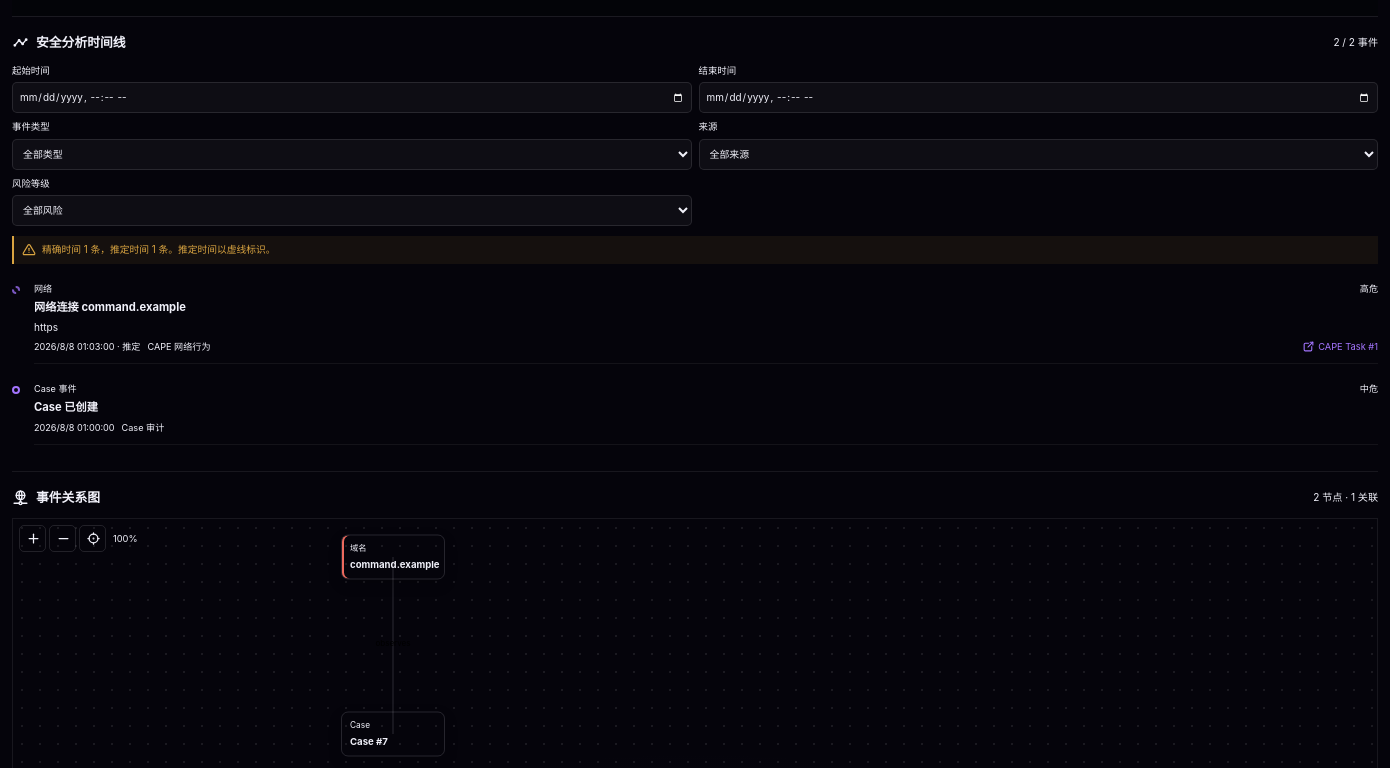
it: CaseAnalysisPanel › filters timeline events and explains estimated time
Check: the text "网络连接 command.example" is shown, box top-left (34, 300), bottom-right (186, 314)
Check: the text "精确时间 1 条，推定时间 1 条。推定时间以虚线标识。" is shown, box top-left (42, 243), bottom-right (275, 257)
Select "Case" in the dropdown labelled "来源" at (1038, 154), box top-left (698, 138), bottom-right (1378, 170)
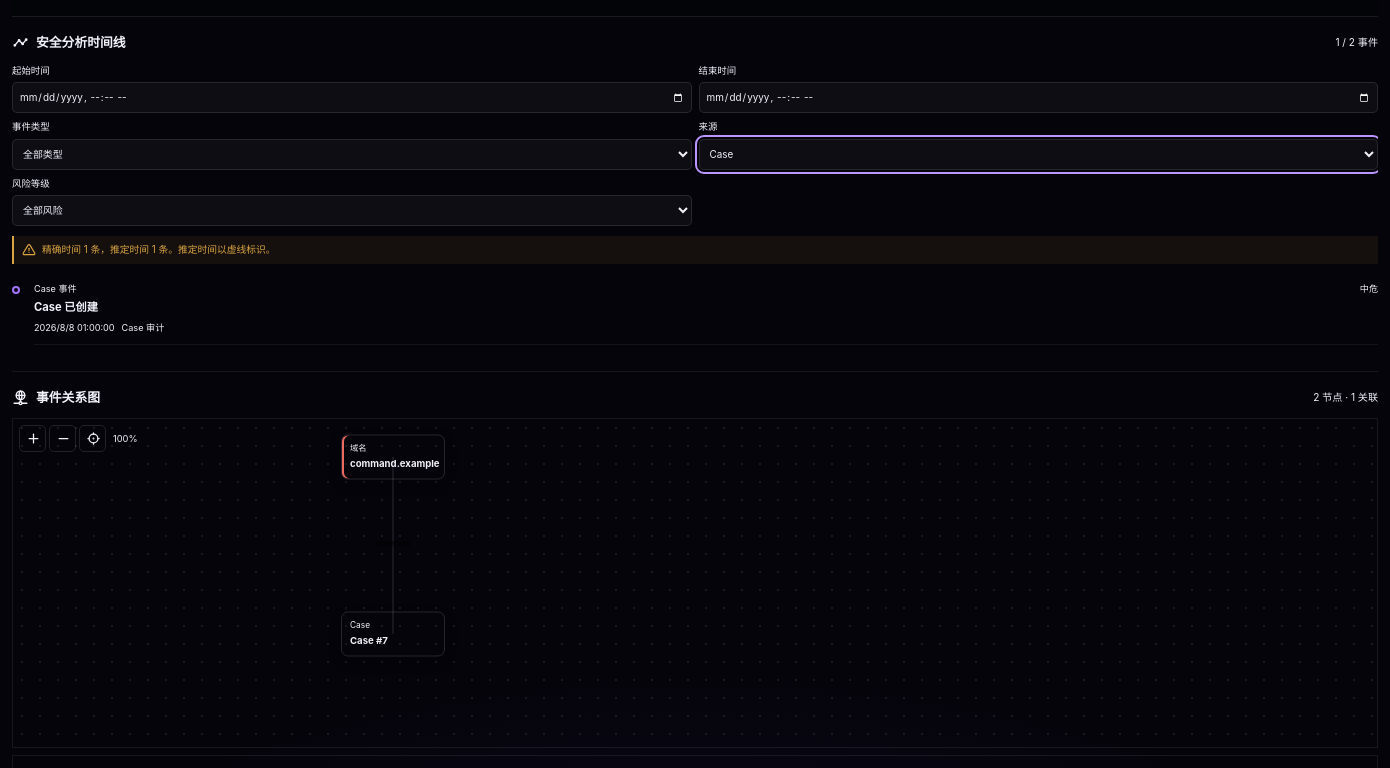
Check: the text "Case 已创建" is shown, box top-left (34, 300), bottom-right (98, 314)
Check: the text "网络连接 command.example" is gone
